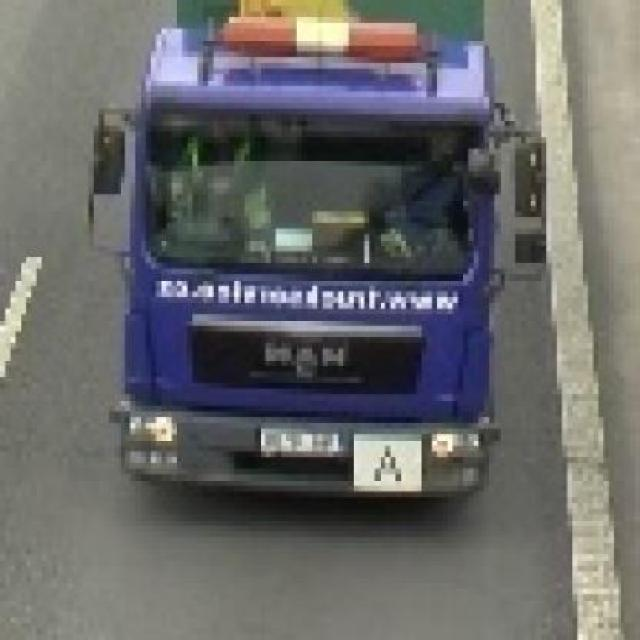truck: (89, 1, 541, 515)
